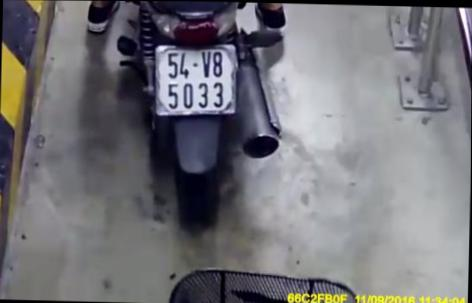LP: (153, 44, 238, 115)
